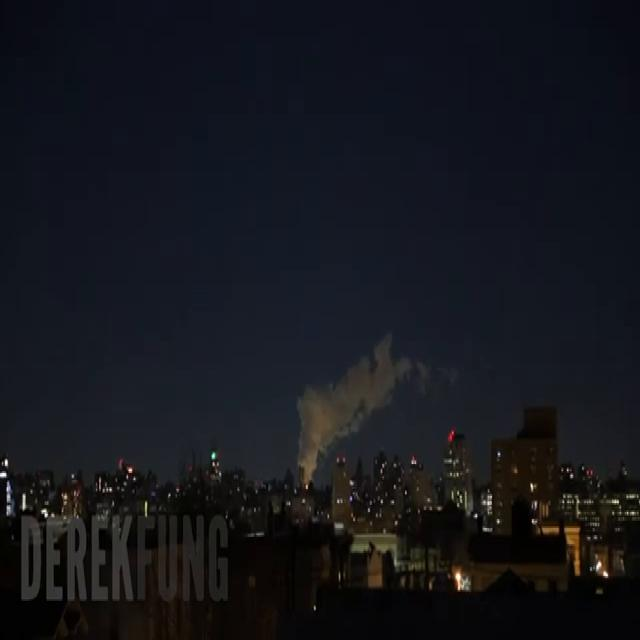smoke: (297, 334, 429, 478)
